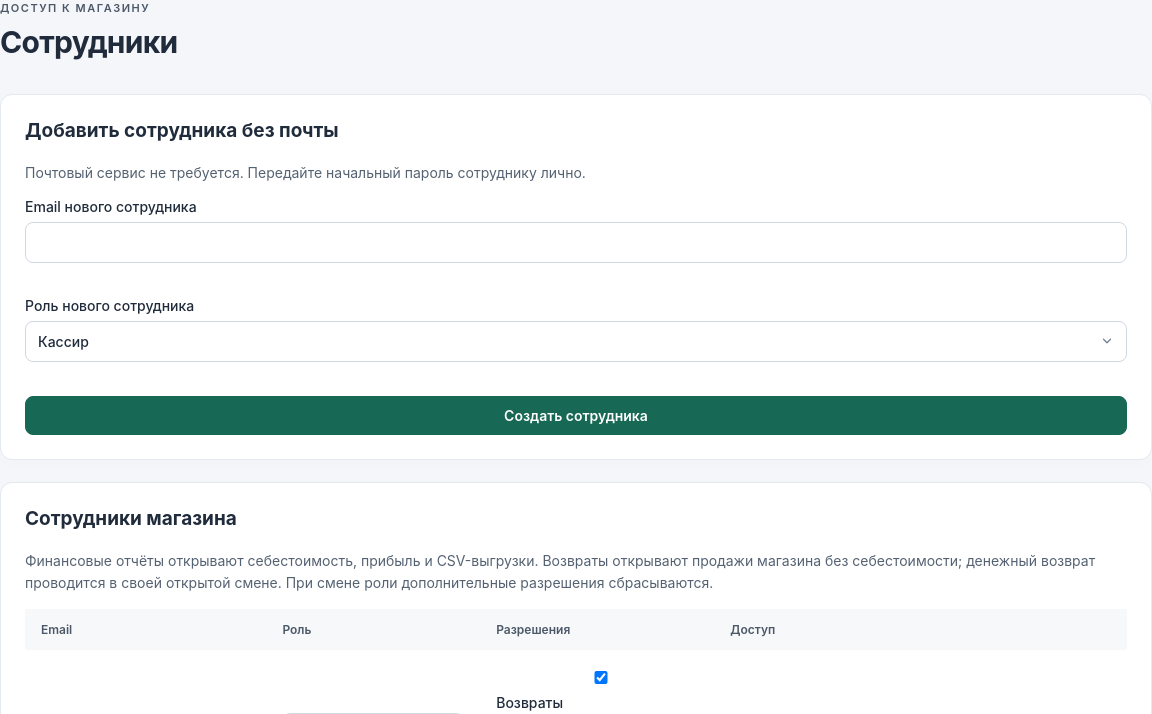
blocks writes until authoritative refresh succeeds, refresh failure=true
The width and height of the screenshot is (1152, 714).
Click the checkbox named "Возвраты cashier@example.test" at (601, 677), box [500,671,702,684]
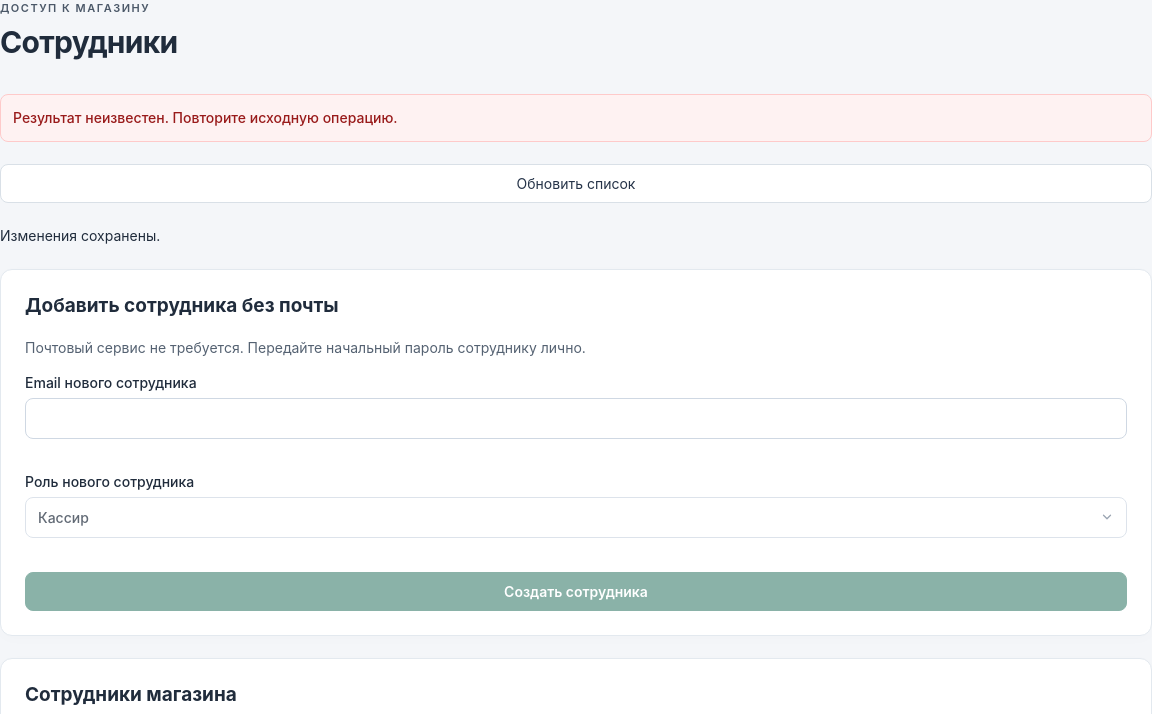
Check: the message "Результат неизвестен. Повторите исходную операцию." is shown, box [0,94,1151,142]
Click the button "Обновить список" at (576, 184), box [0,164,1151,203]
(page scrolled)
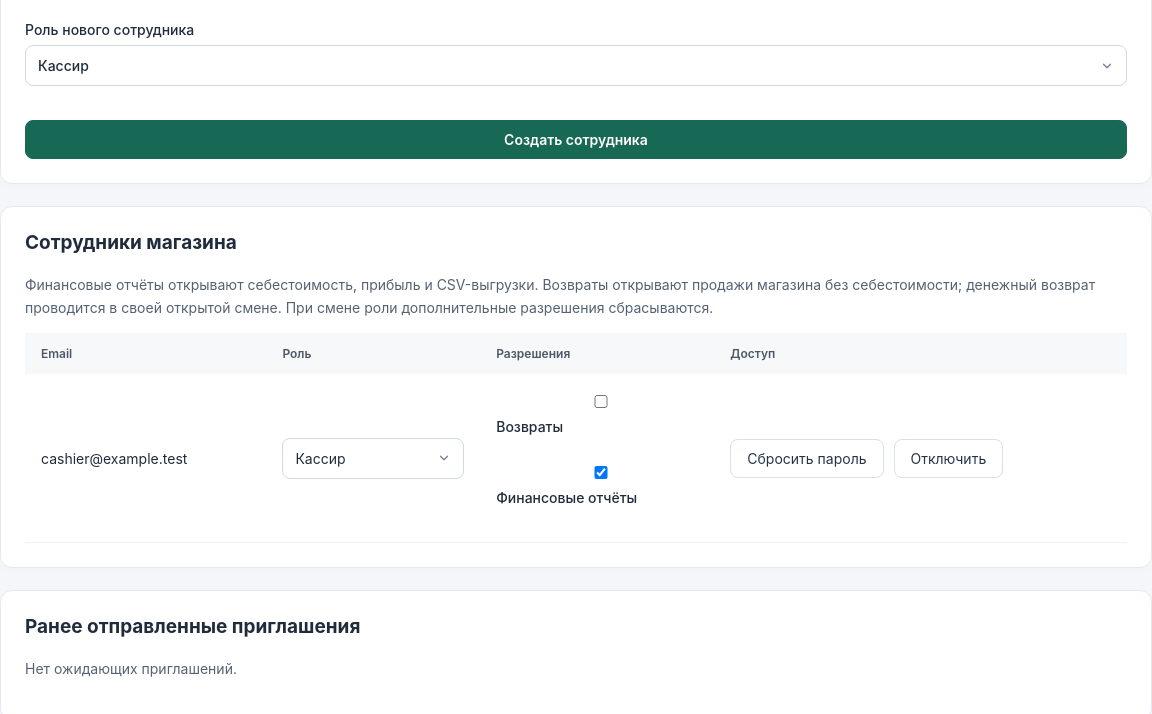
Check: the checkbox named "Финансовые отчёты cashier@example.test" is enabled, box [500,466,702,479]
